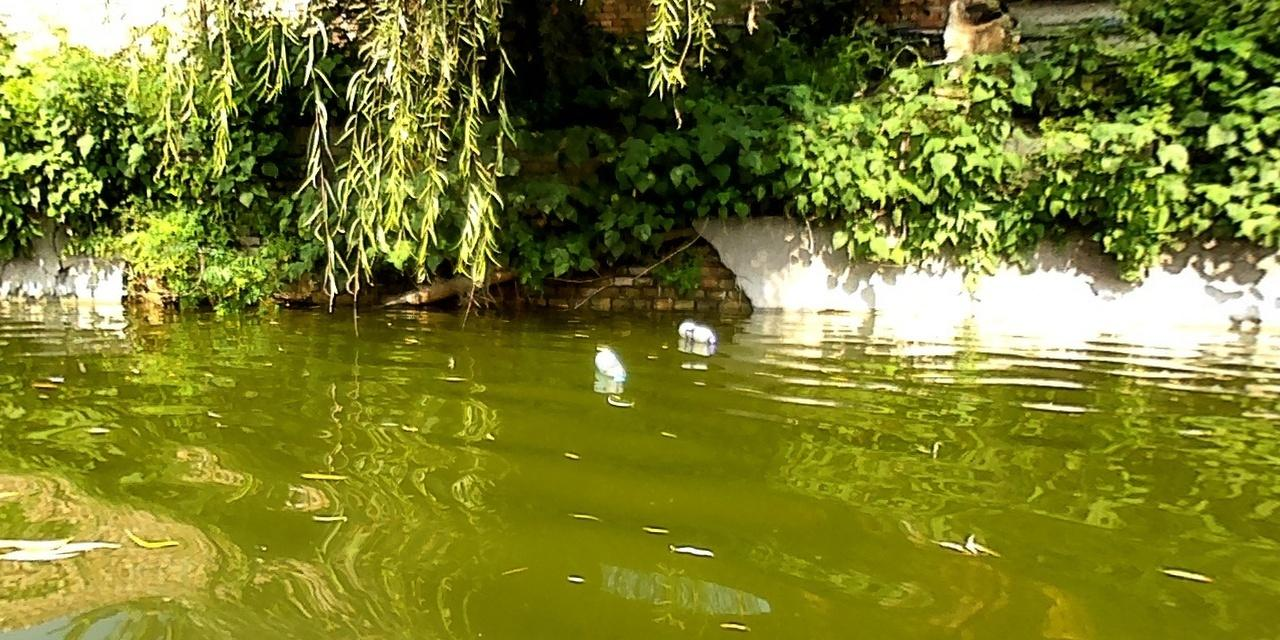bottle: (673, 316, 717, 346), (592, 345, 627, 382)
